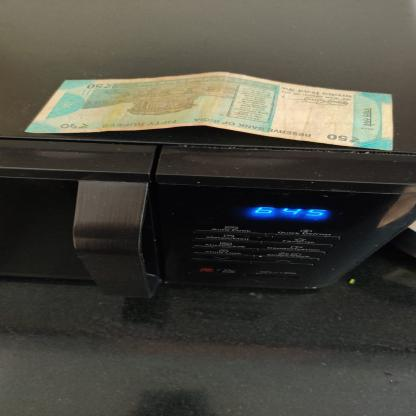New50Back: (17, 71, 398, 152)
